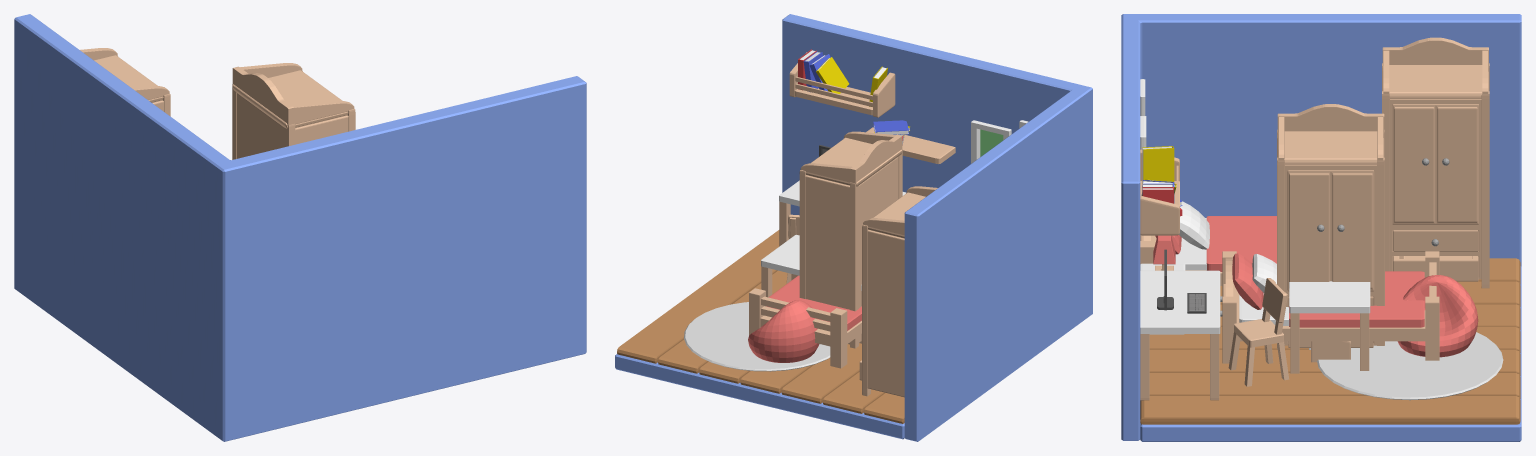
File: Low poly bedroom.fbx
3 views of the same model, side by side, from view 1: azimuth 30°, elevation 25°; view 2: azimuth 150°, elevation 25°; view 3: azimuth 270°, elevation 25° (orthographic). The views are drawn at different scales.
Visible parts, largest first — view 1: Wall, Wardrobe, Wardrobe 1; view 2: Wall, Wardrobe, Wood floor 1, Wardrobe 1, Floor, Carpet 1, Wood floor, Bed, Seat 1, Wall bookshelf.001, Book stack 2.001, Table (+4 smaller); view 3: Wall, Wardrobe 1, Wood floor 1, Wardrobe, Bed, Wood floor, Carpet 1, Floor, Table 1, Bed 1, Table, Seat 1 (+7 smaller).
Boxes of the visible parts, <box> form: Wall: <box>14,14,586,441</box>; Wardrobe: <box>232,63,355,159</box>; Wardrobe 1: <box>80,48,170,116</box>; Wall: <box>782,14,1092,441</box>; Wardrobe: <box>799,131,902,348</box>; Wood floor 1: <box>618,230,904,423</box>; Wardrobe 1: <box>859,186,937,397</box>; Floor: <box>615,354,904,439</box>; Carpet 1: <box>684,302,830,371</box>; Wood floor: <box>617,231,904,423</box>; Bed: <box>749,275,861,368</box>; Seat 1: <box>748,300,819,362</box>; Wall bookshelf.001: <box>789,52,895,117</box>; Book stack 2.001: <box>798,49,849,93</box>; Table: <box>761,234,861,343</box>; Wall: <box>1121,14,1521,440</box>; Wardrobe 1: <box>1382,37,1489,288</box>; Wood floor 1: <box>1140,258,1520,424</box>; Wardrobe: <box>1277,104,1384,349</box>; Bed: <box>1222,251,1439,363</box>; Wood floor: <box>1140,258,1520,424</box>; Carpet 1: <box>1317,332,1503,400</box>; Floor: <box>1140,266,1521,441</box>; Table 1: <box>1140,270,1222,400</box>; Bed 1: <box>1140,201,1276,285</box>; Table: <box>1289,281,1370,373</box>; Seat 1: <box>1397,275,1478,357</box>.
Bounding box in the file's own units: 840 × 625 × 840.
